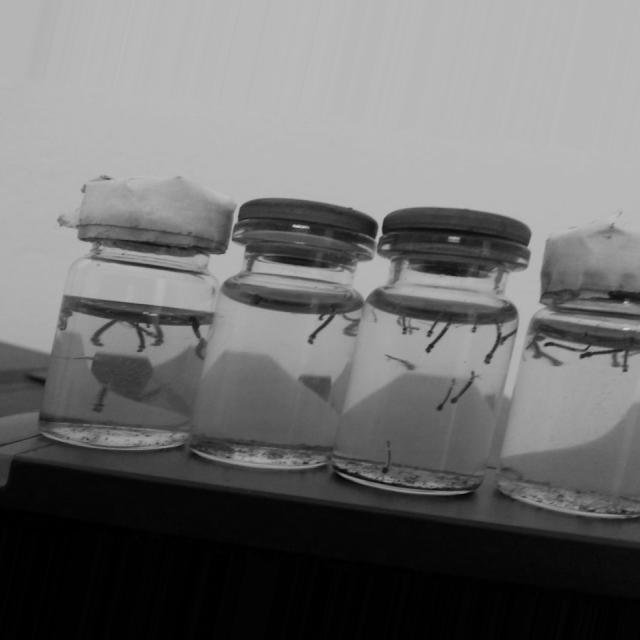larvas: (305, 311, 339, 347), (424, 318, 455, 355), (449, 369, 479, 406), (482, 324, 505, 368), (90, 319, 119, 346), (435, 379, 457, 414), (386, 352, 415, 370), (130, 321, 155, 340), (546, 341, 590, 351), (94, 381, 108, 412), (426, 315, 442, 338), (382, 439, 392, 473), (346, 313, 360, 337), (580, 350, 616, 359), (541, 323, 567, 335), (56, 307, 70, 329), (61, 311, 73, 333), (154, 319, 164, 344), (502, 328, 517, 344), (543, 354, 563, 366), (526, 330, 540, 347), (135, 330, 144, 353), (74, 356, 102, 363), (191, 315, 200, 336), (197, 338, 205, 360), (472, 318, 484, 332), (623, 349, 629, 371), (138, 319, 151, 328), (401, 314, 407, 333), (613, 352, 620, 368), (318, 310, 329, 320), (407, 317, 413, 334), (533, 344, 540, 358), (624, 351, 638, 357), (372, 308, 377, 324), (412, 326, 420, 331)
